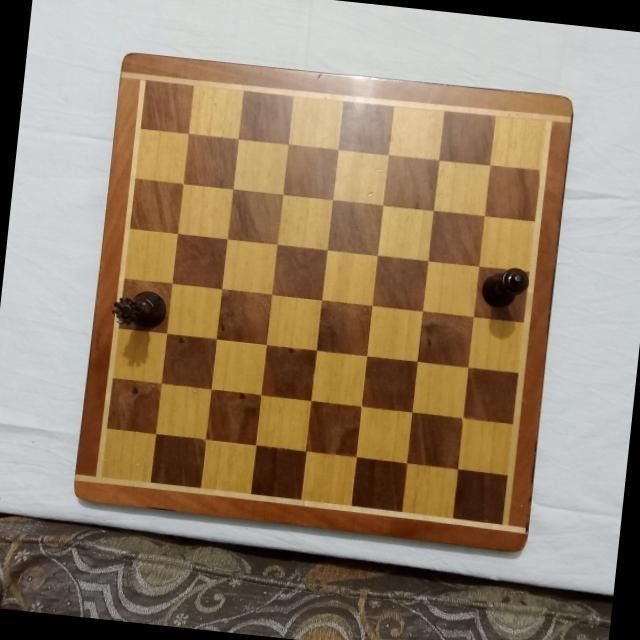black-king: (480, 264, 532, 312)
black-queen: (108, 285, 170, 331)
